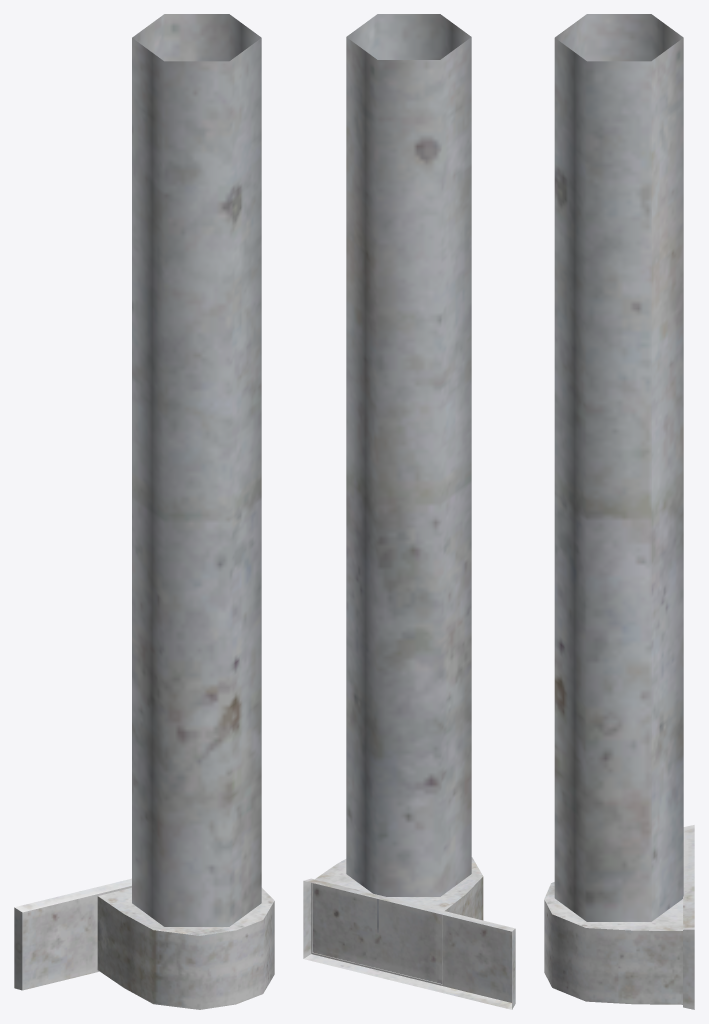
File: SM_Wires_Pipes_01yy.glb
3 views of the same model, side by side, from view 1: azimuth 30°, elevation 25°; view 2: azimuth 150°, elevation 25°; view 3: azimuth 270°, elevation 25° (orthographic). The views are drawn at different scales.
Parts seen in each view (by area): view 1: SM_Wires_Pipes_01yy; view 2: SM_Wires_Pipes_01yy; view 3: SM_Wires_Pipes_01yy.
Boxes of the visible parts, x1,y1,x2,y2 form: SM_Wires_Pipes_01yy: (14,14,274,1009); SM_Wires_Pipes_01yy: (303,14,515,1009); SM_Wires_Pipes_01yy: (544,14,694,1009).
Bounding box in the file's own units: 0.0605 × 0.2527 × 0.0367.
Materials: 1 (1 with a texture image).
